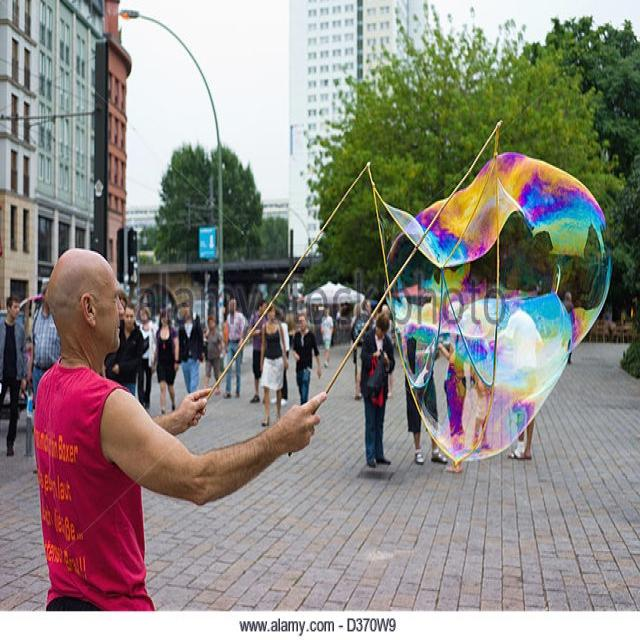body: (32, 245, 329, 613), (489, 293, 545, 462), (356, 310, 396, 469), (402, 336, 450, 468), (26, 280, 64, 415), (0, 291, 29, 459), (103, 300, 147, 399), (436, 340, 467, 475), (259, 301, 290, 428), (150, 306, 181, 419), (291, 312, 322, 408), (221, 296, 247, 400), (177, 300, 205, 395), (349, 296, 374, 400), (468, 364, 496, 456), (246, 297, 269, 405), (135, 304, 156, 409), (202, 313, 225, 396), (380, 301, 397, 399), (275, 306, 291, 409), (349, 300, 365, 390), (318, 306, 333, 370), (601, 310, 627, 339), (334, 302, 350, 334), (562, 288, 575, 314), (117, 287, 128, 311)
